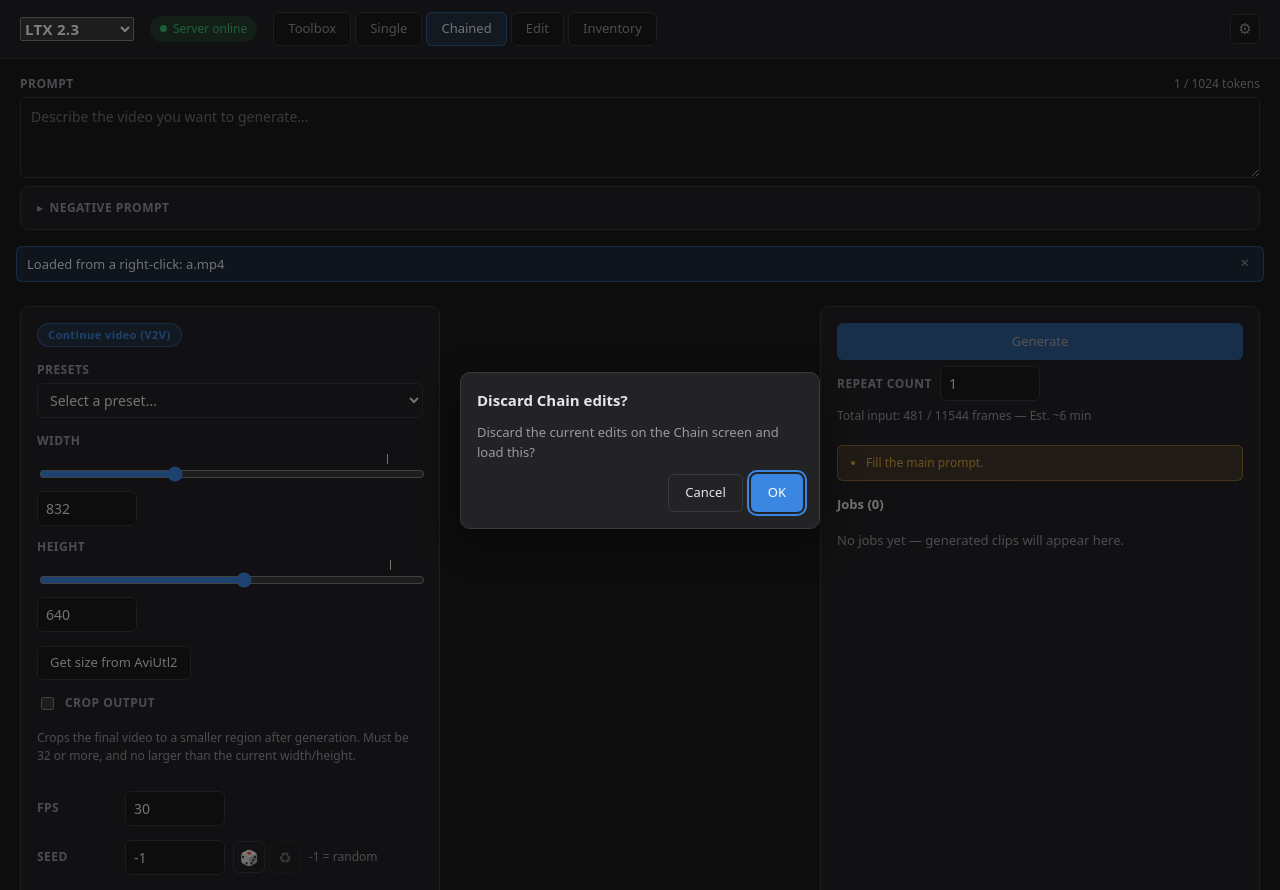
App / right-click routing -> prefill › currentFrameToClipChain shows the discard confirm on a dirty Chain, then captures the frame into clip 0's opening keyframe (#12)
Expected: the button "Generate" is shown, [837, 323, 1243, 360]
Click the button "OK" at (777, 493), box [751, 474, 803, 512]
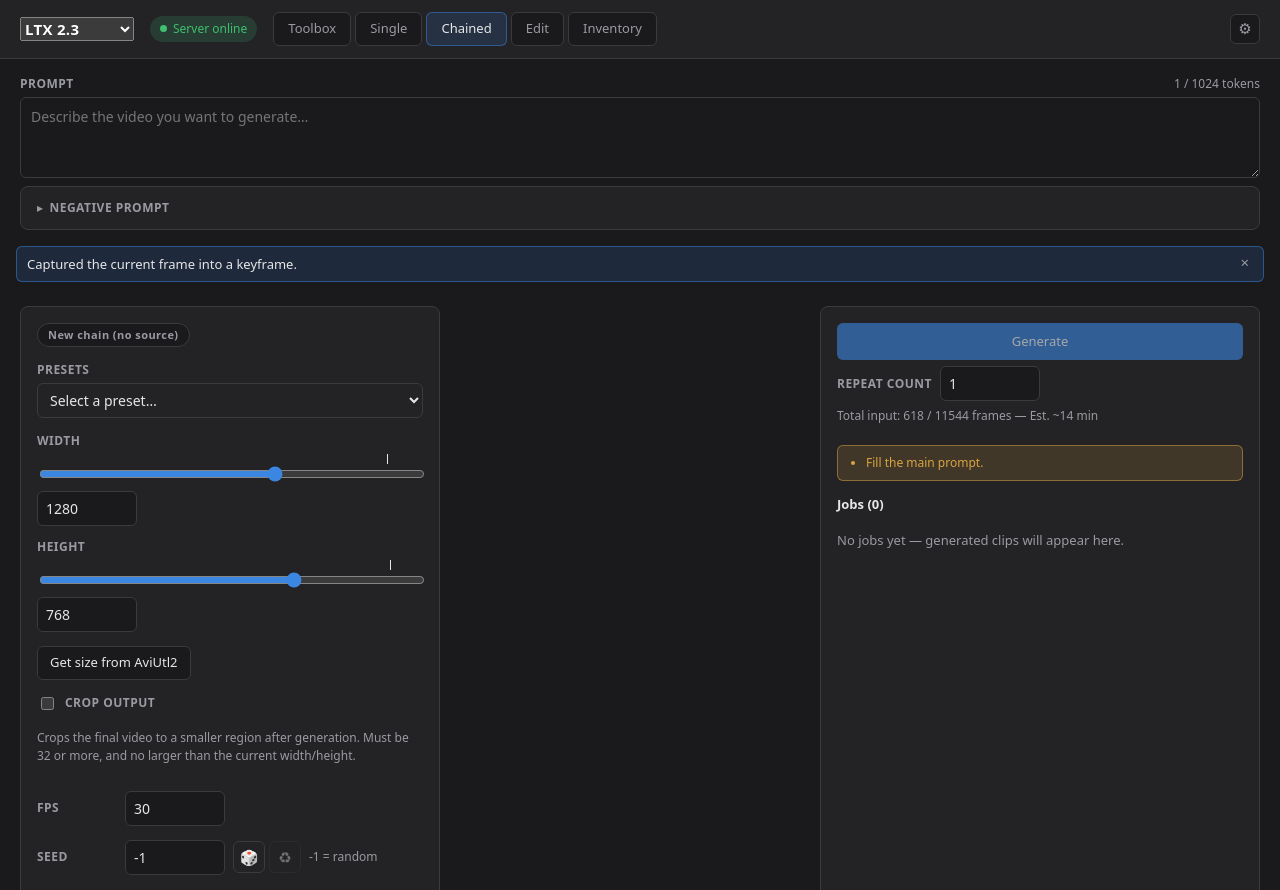
Result: the text "Captured the current frame into a keyframe." is shown at [27, 254, 297, 272]
